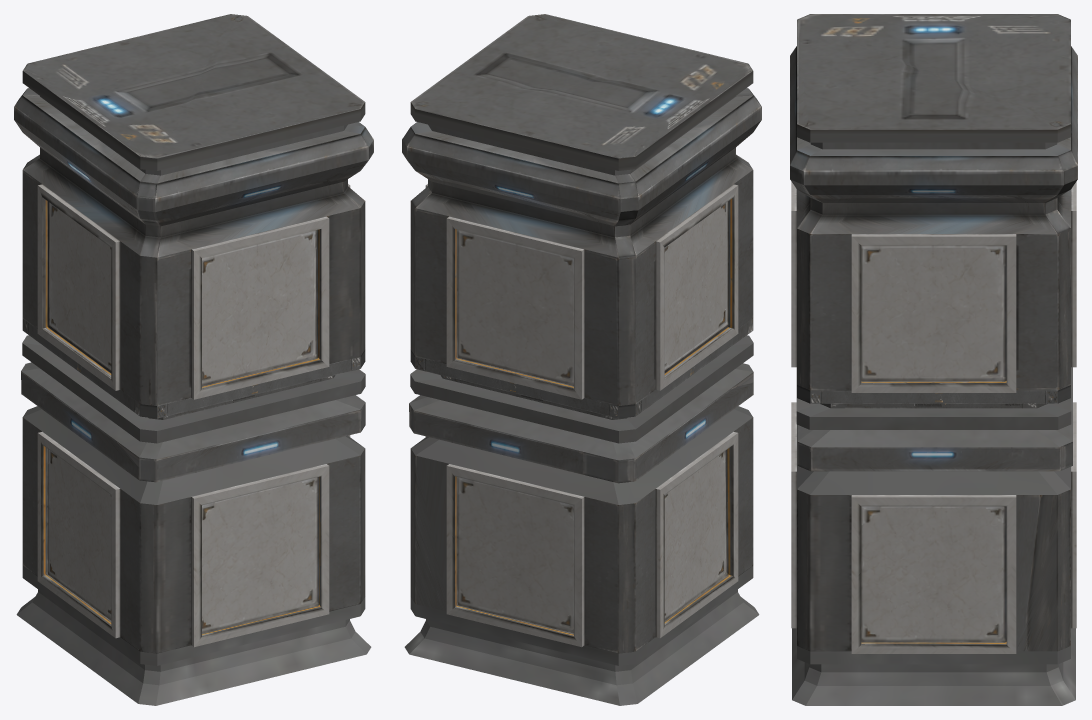
File: Coluna_2Altura.fbx
3 views of the same model, side by side, from view 1: azimuth 30°, elevation 25°; view 2: azimuth 150°, elevation 25°; view 3: azimuth 270°, elevation 25° (orthographic). The views are drawn at different scales.
Visible parts, largest first — view 1: Coluna1.004; view 2: Coluna1.004; view 3: Coluna1.004.
Part boxes in pixels (x1,y1,x2,y2): Coluna1.004: (14,14,373,705); Coluna1.004: (402,14,761,705); Coluna1.004: (790,14,1077,705).
Size of the model in its own units: 1 by 2.2 by 1.
1 material, 1 textured.
